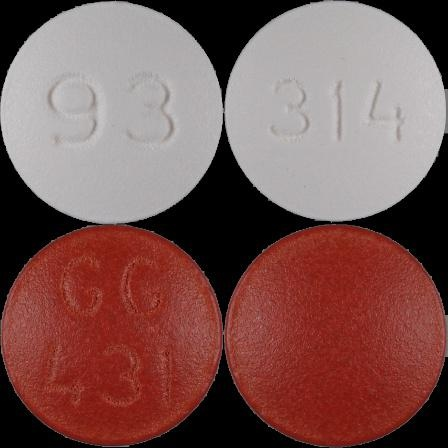52959-512: (0, 0, 224, 224)
